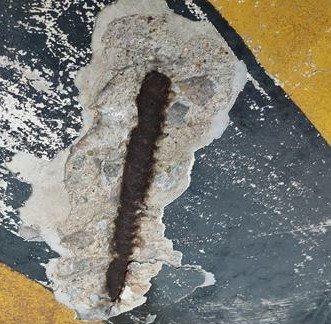Exposed reinforcement: (105, 71, 172, 305)
Spalling: (4, 1, 248, 324)
